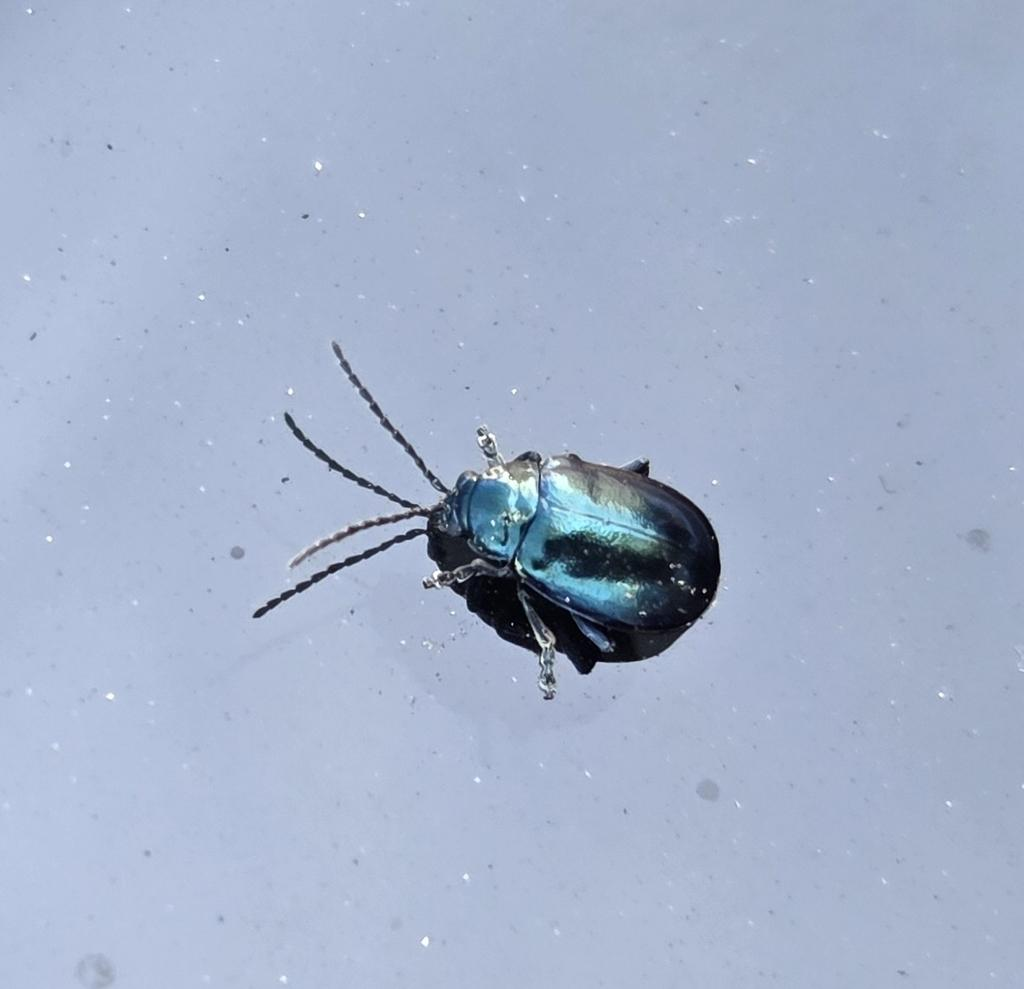flea_beetle: (209, 309, 798, 741)
